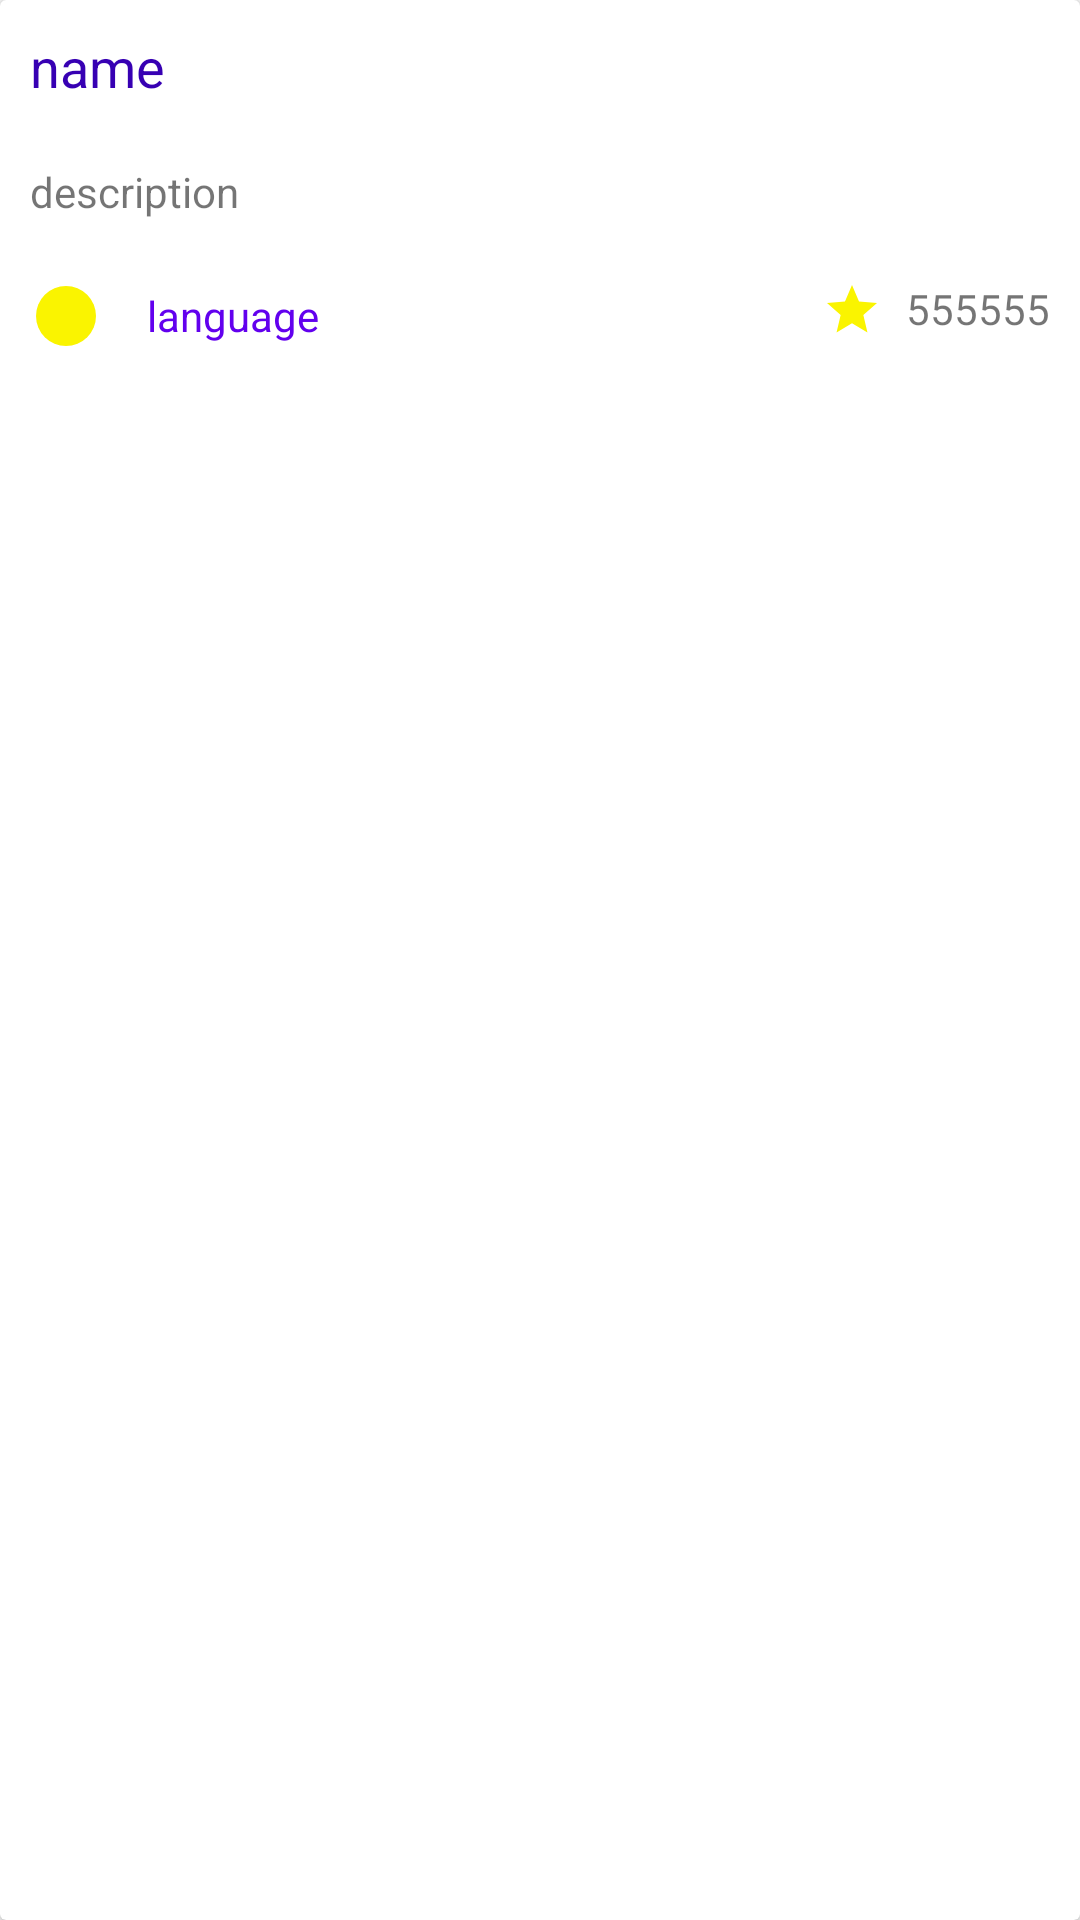

Named icons in this screenshot (1080px×1920px) and their centers, point (x, y):
star: point (852, 309)
